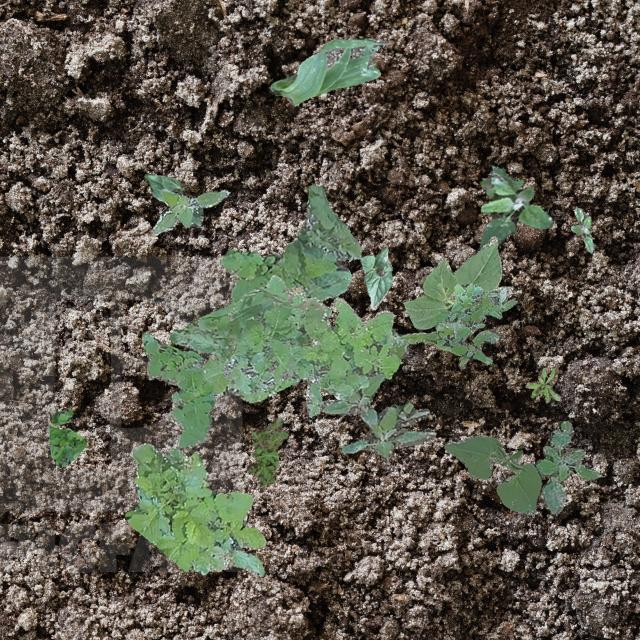crop: (402, 235, 512, 352), (270, 36, 386, 104), (444, 434, 540, 514), (144, 172, 202, 226), (358, 246, 392, 308)
weed: (202, 182, 360, 402), (168, 274, 402, 416), (123, 444, 264, 576), (318, 371, 434, 456), (140, 332, 213, 446), (424, 282, 514, 368), (478, 165, 552, 248), (534, 419, 598, 514), (150, 188, 228, 235), (246, 416, 286, 486), (48, 408, 86, 466), (388, 328, 434, 358), (524, 366, 560, 402), (570, 206, 594, 252)
